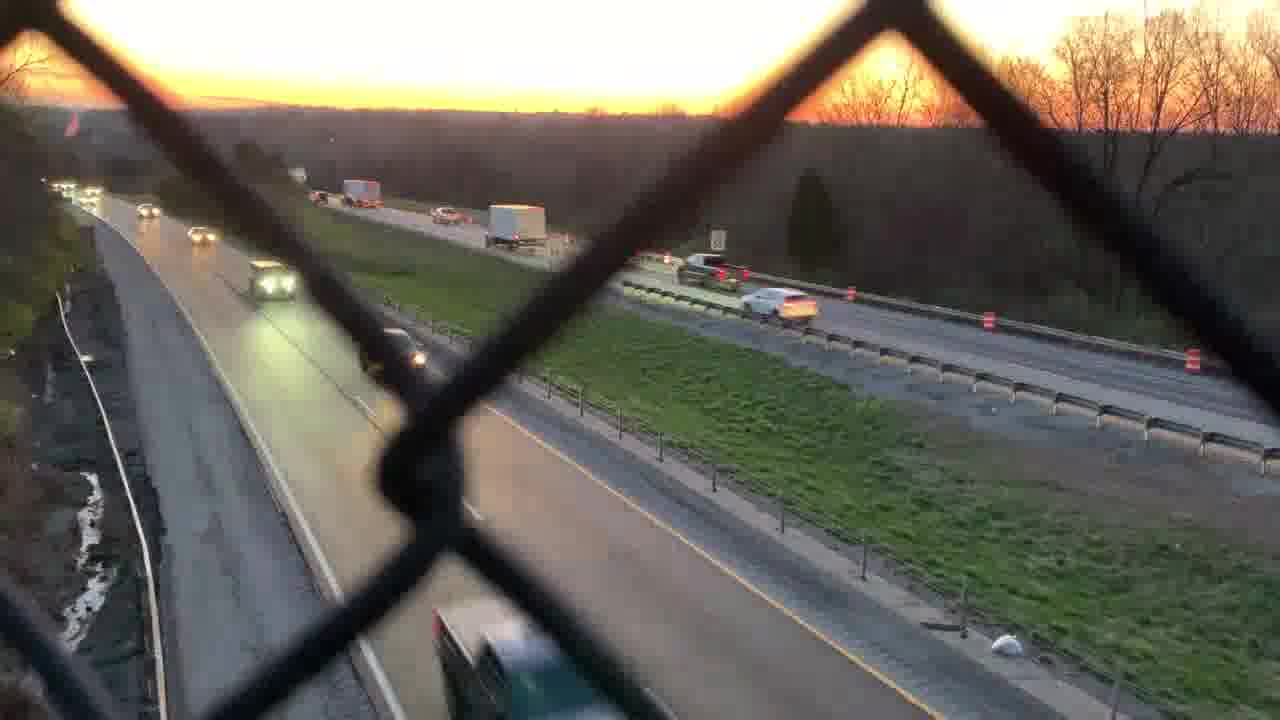heavyTruck: (474, 202, 551, 250)
largeCar: (741, 283, 817, 330)
lightTruck: (674, 253, 749, 295)
